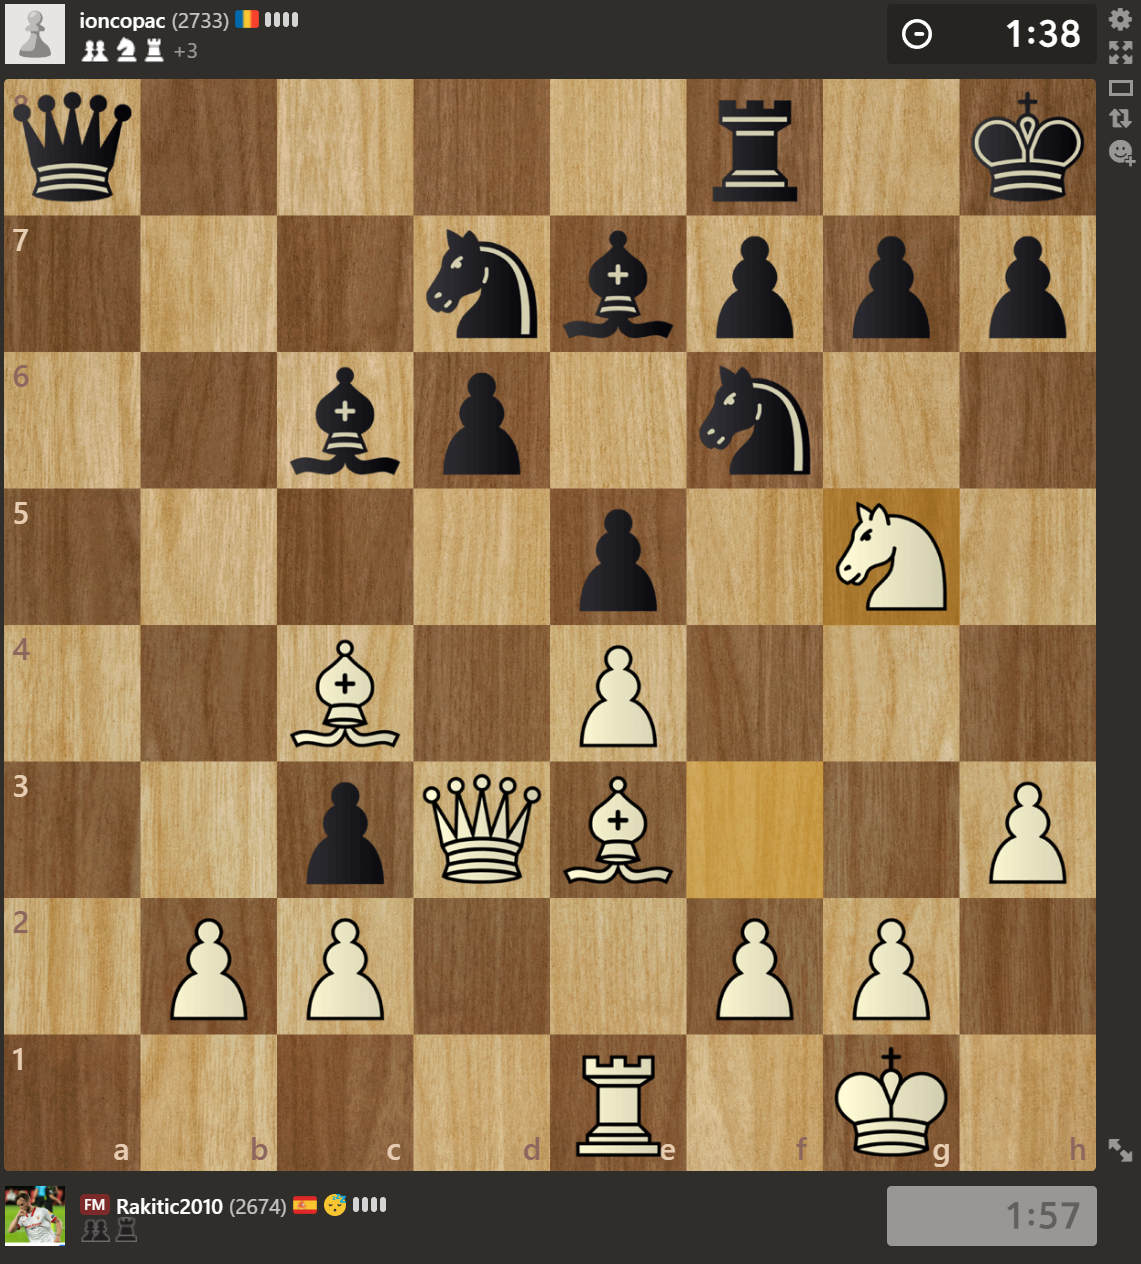beyaz_at: (830, 495, 955, 618)
beyaz_fil: (286, 632, 404, 758), (559, 770, 680, 889)
beyaz_kale: (558, 1040, 680, 1164)
beyaz_piyon: (964, 764, 1097, 889), (694, 904, 819, 1026), (286, 908, 407, 1029), (837, 909, 952, 1026), (153, 906, 260, 1029), (561, 636, 670, 750)
beyaz_sah: (833, 1040, 952, 1162)
beyaz_vezir: (420, 769, 547, 890)
siyah_at: (694, 358, 814, 482), (422, 220, 540, 346)
siyah_fil: (286, 360, 411, 482), (559, 222, 683, 342)
siyah_kale: (694, 84, 809, 206)
siyah_piyon: (554, 492, 687, 619), (969, 224, 1095, 344), (832, 227, 955, 342), (694, 222, 801, 342), (294, 772, 400, 886), (431, 363, 536, 476)
siyah_sah: (961, 81, 1097, 211)
siyah_vezir: (6, 84, 133, 213)
